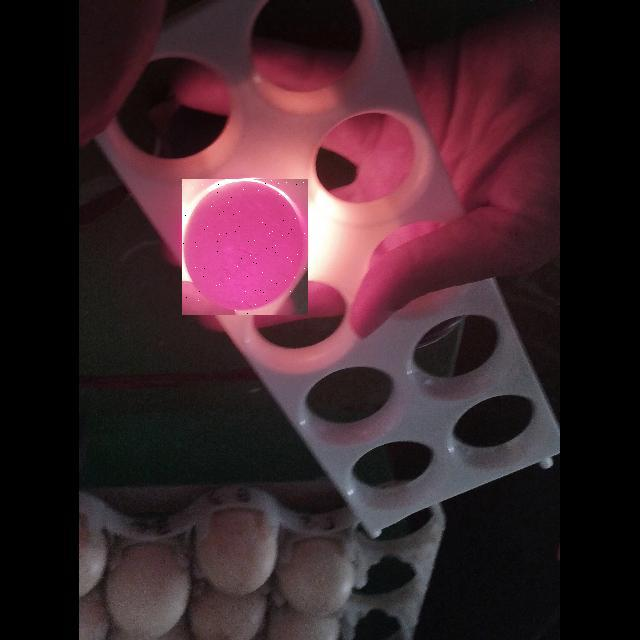Infertile: (182, 179, 308, 315)
